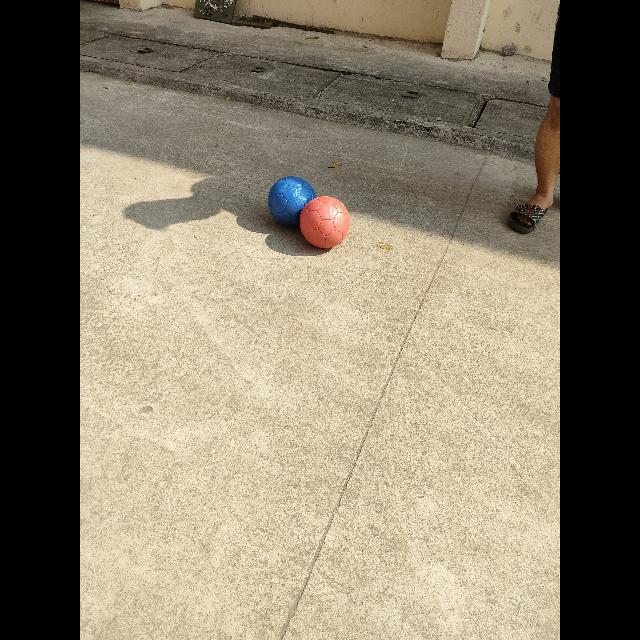B: (268, 176, 316, 226)
R: (300, 196, 350, 248)
